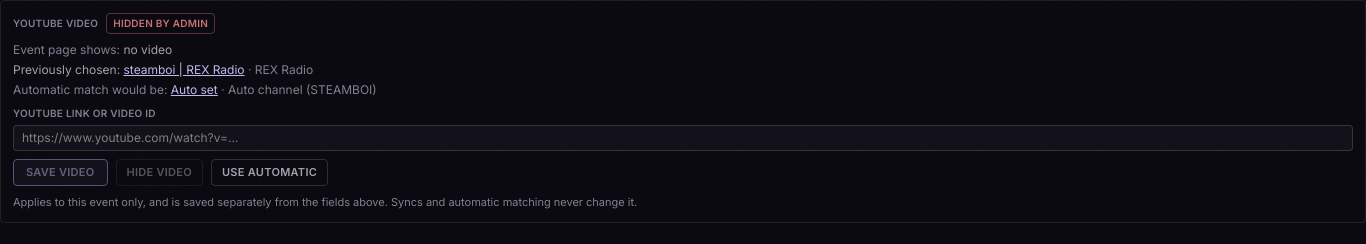
it: EventYoutubePanel — actions › back to automatic: sends DELETE
This screenshot has width=1366, height=244.
Click the button "Use automatic".
click(270, 172)  # box 211,159 -> 328,186
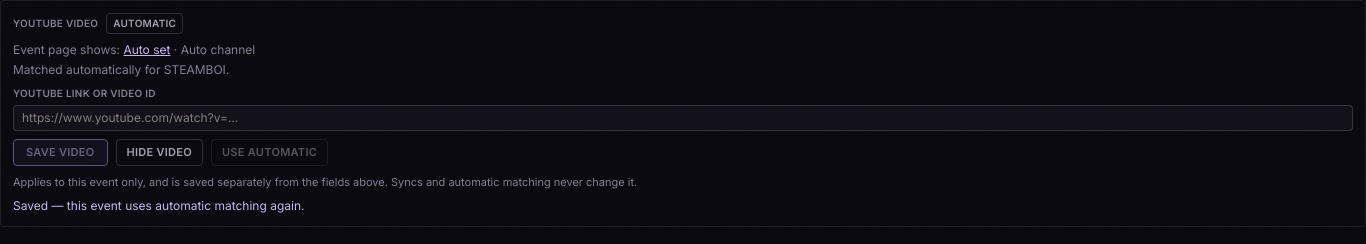
Expected: the text with test id "youtube-status" reads "Automatic", 113,17 -> 176,29
